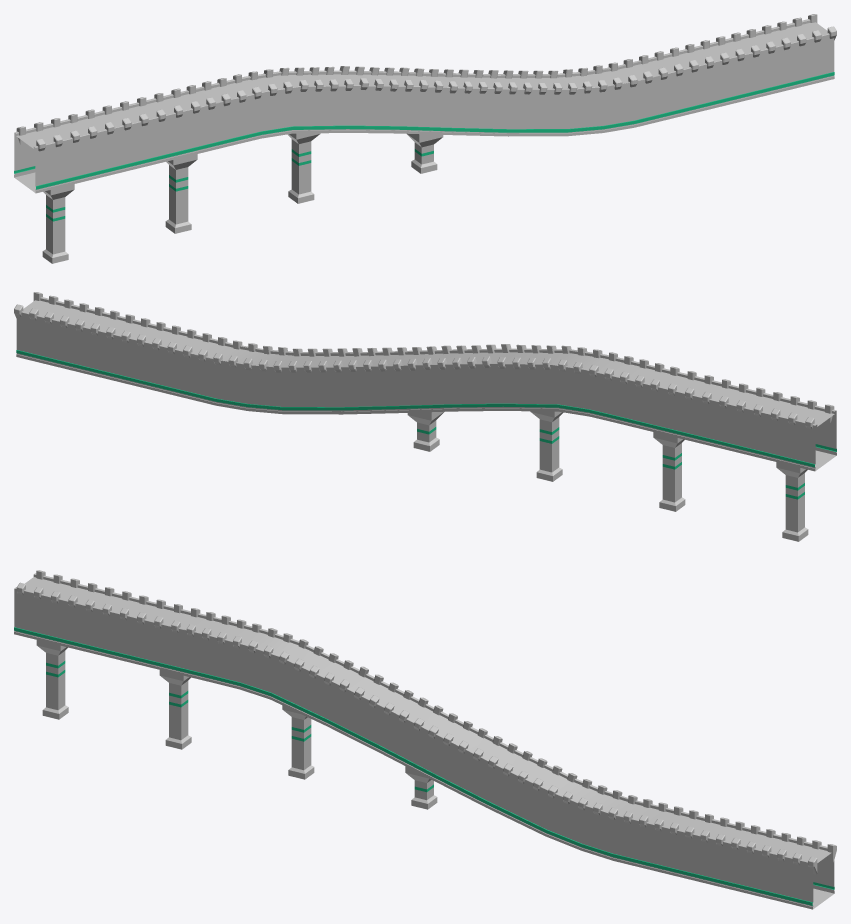
Rendered from Tower_mega_wall_riser_start.fbx.
3 renders of one model, top to bottom at view 1: azimuth 30°, elevation 25°; view 2: azimuth 150°, elevation 25°; view 3: azimuth 330°, elevation 25°, orthographic.
Parts seen in each view (by area): view 1: wall_01; view 2: wall_01; view 3: wall_01.
Boxes of the visible parts, x1,y1,x2,y2 form: wall_01: (14,14,836,263); wall_01: (14,292,836,541); wall_01: (14,570,836,909).
Bounding box in the file's own units: 3079 × 482 × 154.
